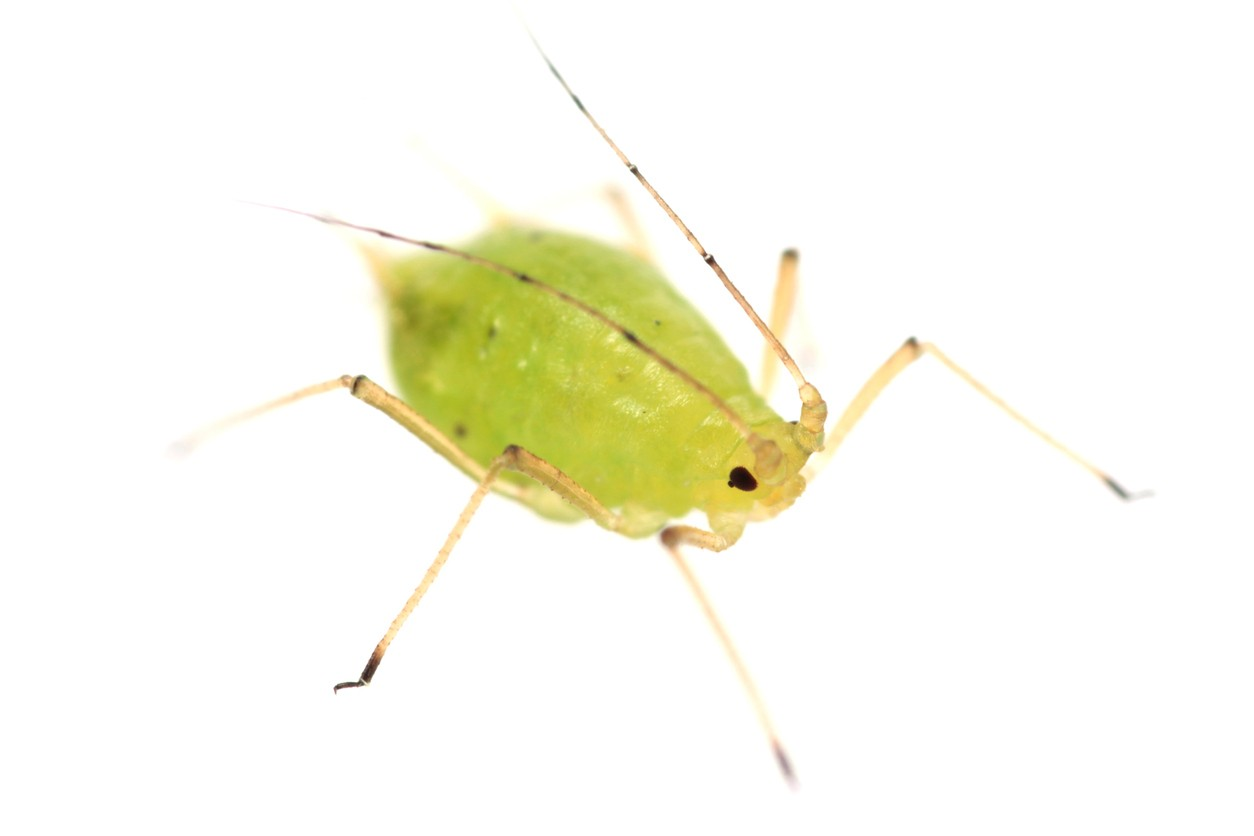Aphids: (155, 6, 1167, 808)
